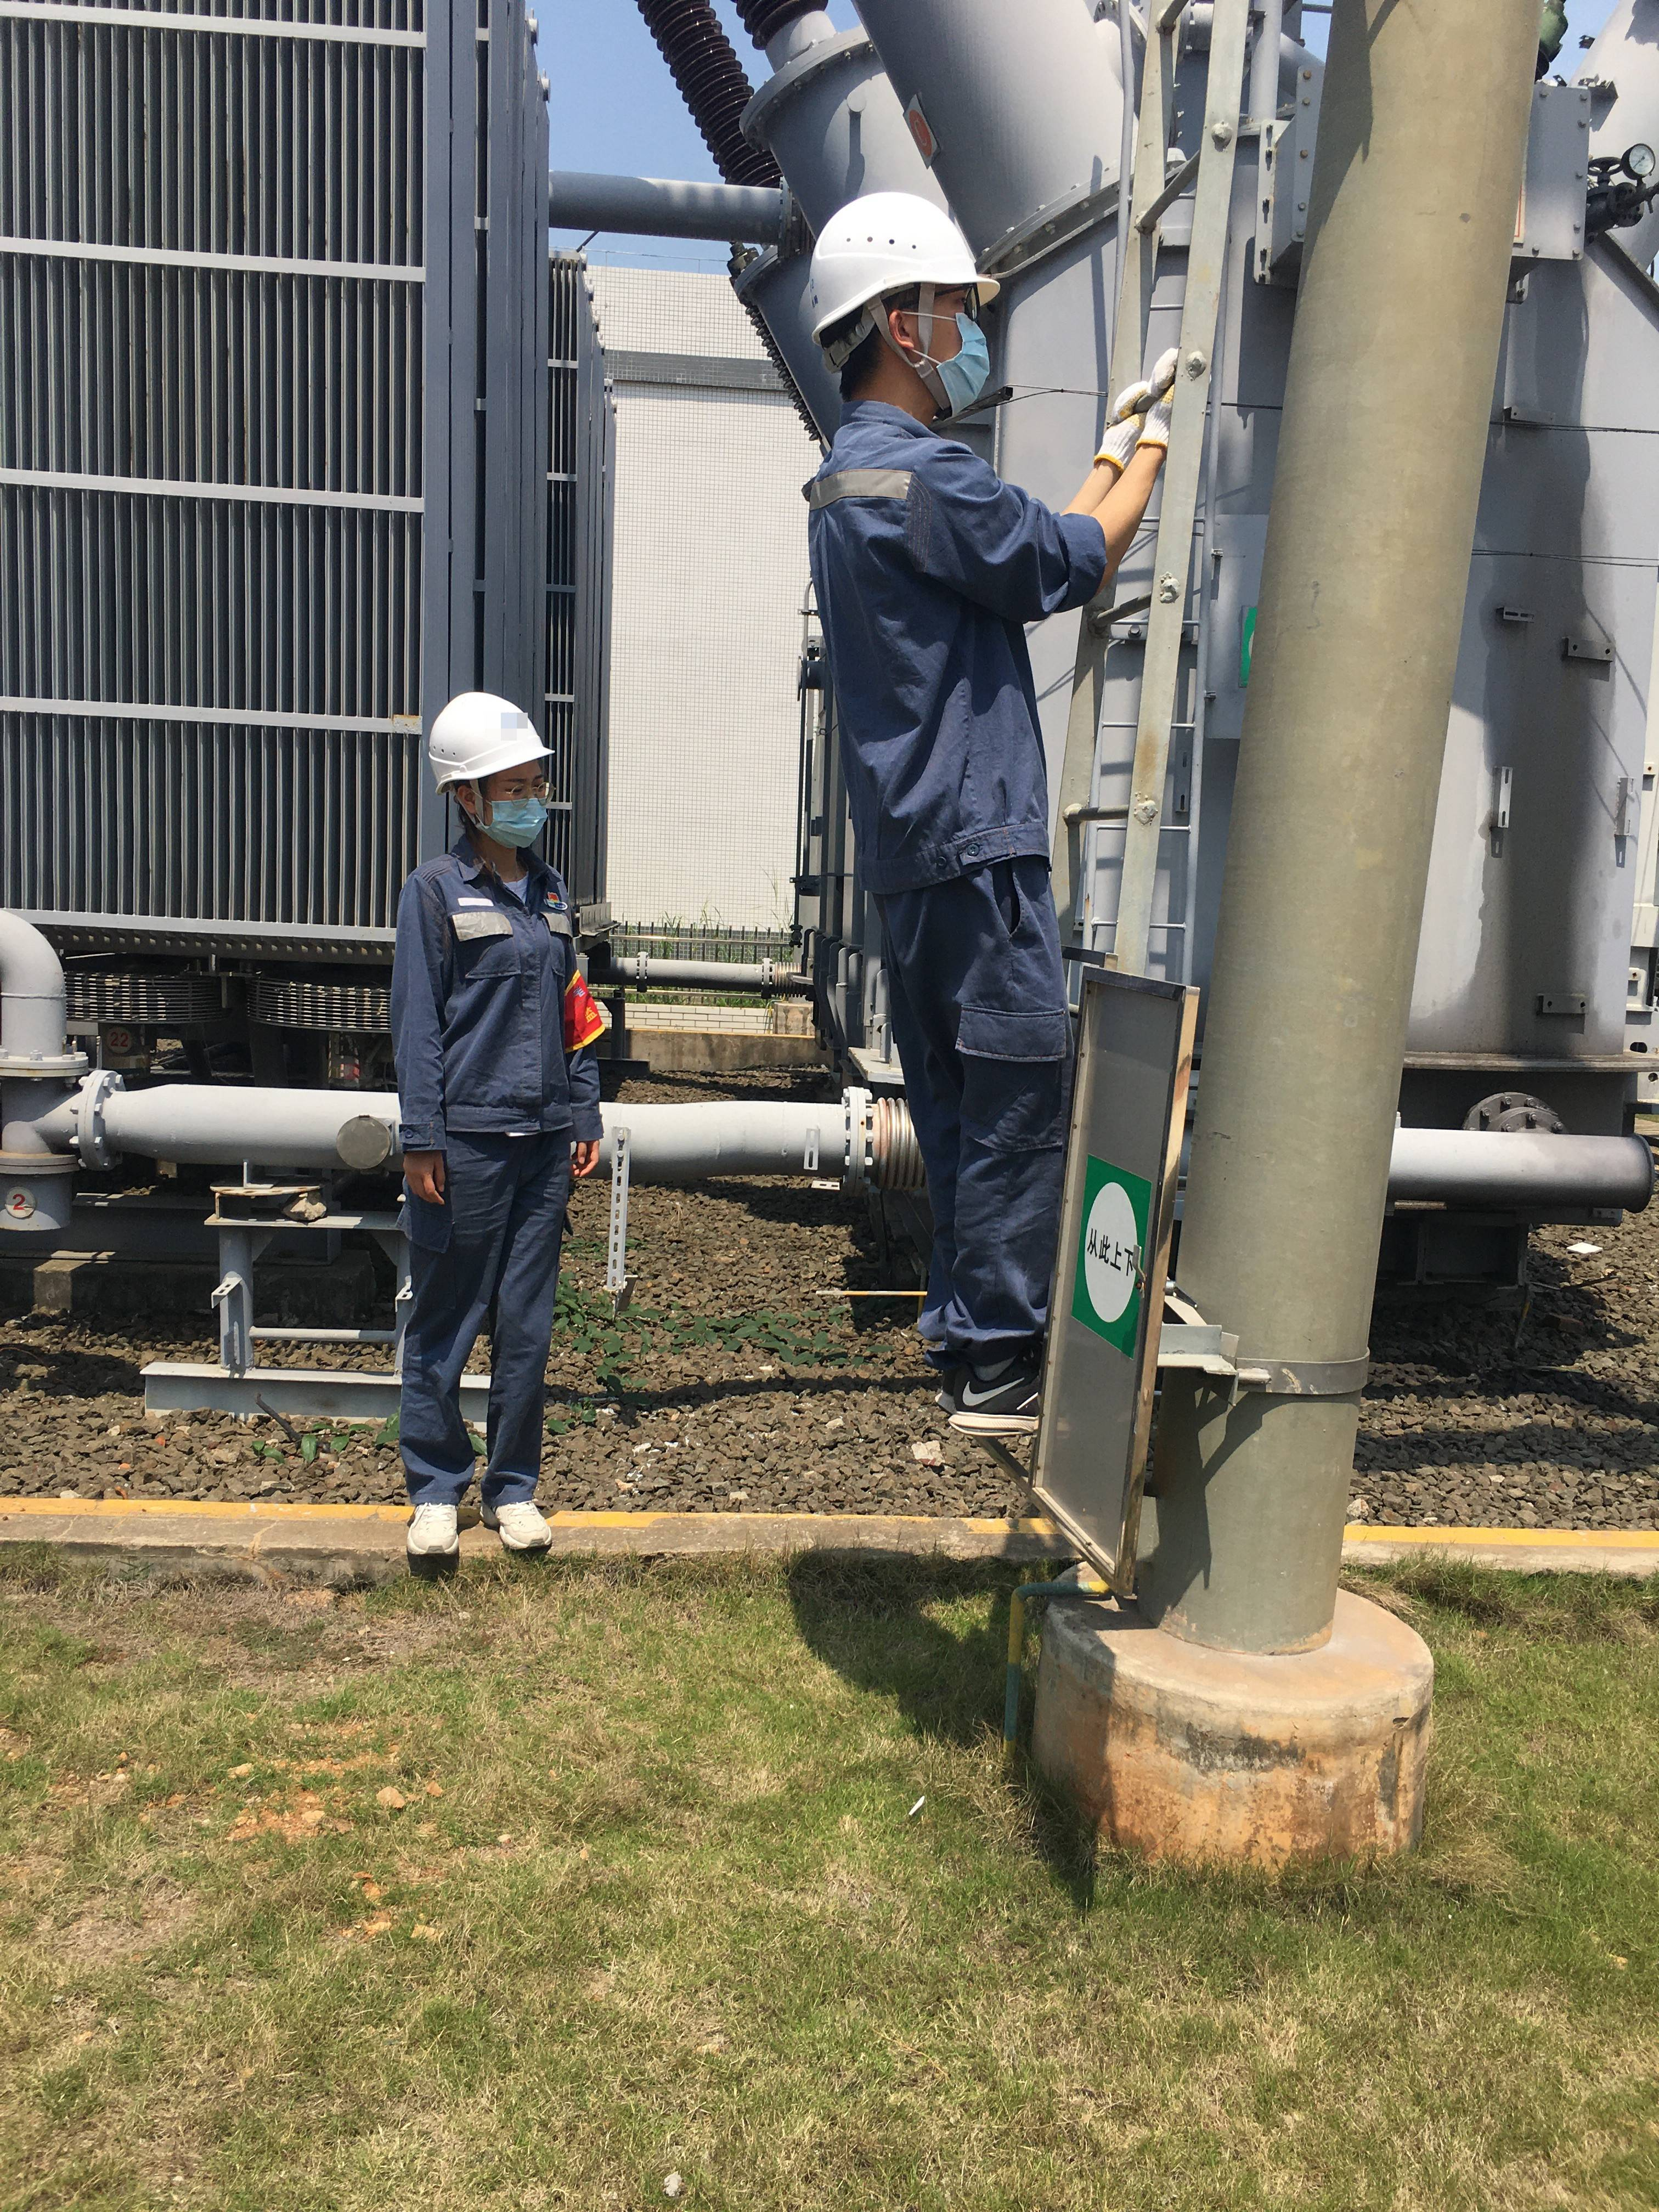downsuit: (859, 876, 1080, 1350), (385, 1160, 579, 1498)
upsuit: (795, 397, 1107, 845), (392, 848, 624, 1134)
wrongtop: (1012, 420, 1171, 604)
